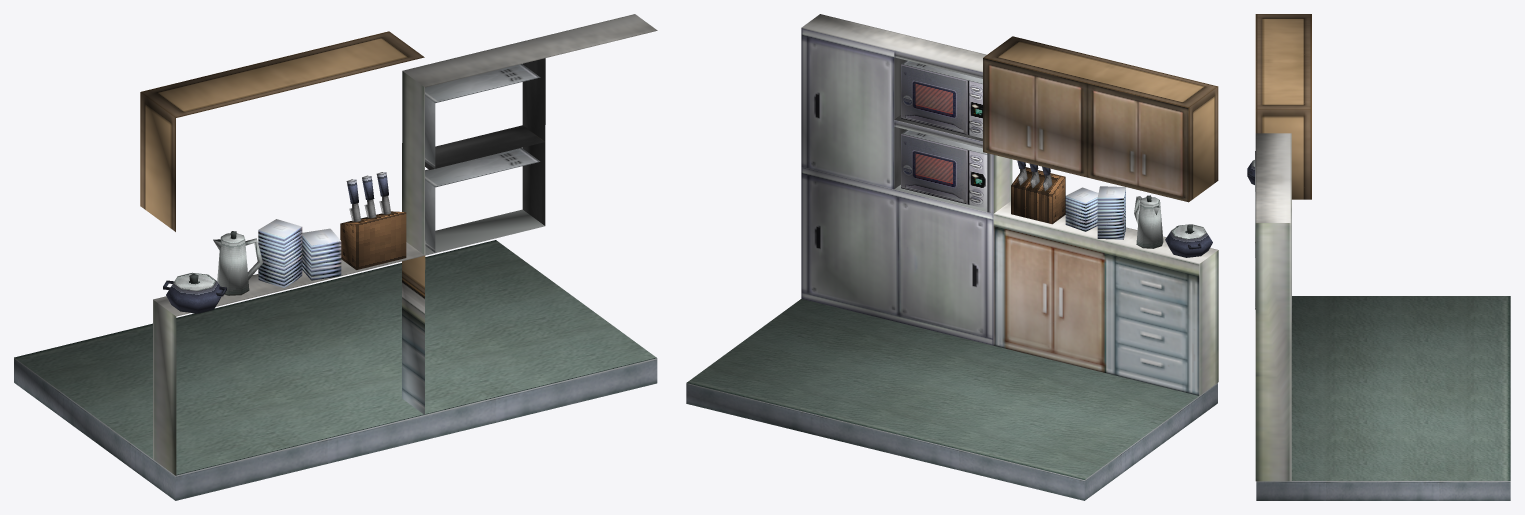
The model's file is a_SCcook01A.glb.
3 views of the same model, side by side, from view 1: azimuth 30°, elevation 25°; view 2: azimuth 150°, elevation 25°; view 3: azimuth 270°, elevation 25° (orthographic). The views are drawn at different scales.
Visible parts, largest first — view 1: a_SCcook01A; view 2: a_SCcook01A; view 3: a_SCcook01A.
Part boxes in pixels (bbox=[...]): a_SCcook01A: bbox=[14, 14, 657, 500]; a_SCcook01A: bbox=[686, 14, 1218, 500]; a_SCcook01A: bbox=[1247, 14, 1510, 500].
Bounding box in the file's own units: 3 × 2.28 × 1.8.
Materials: 7 (7 with a texture image).
